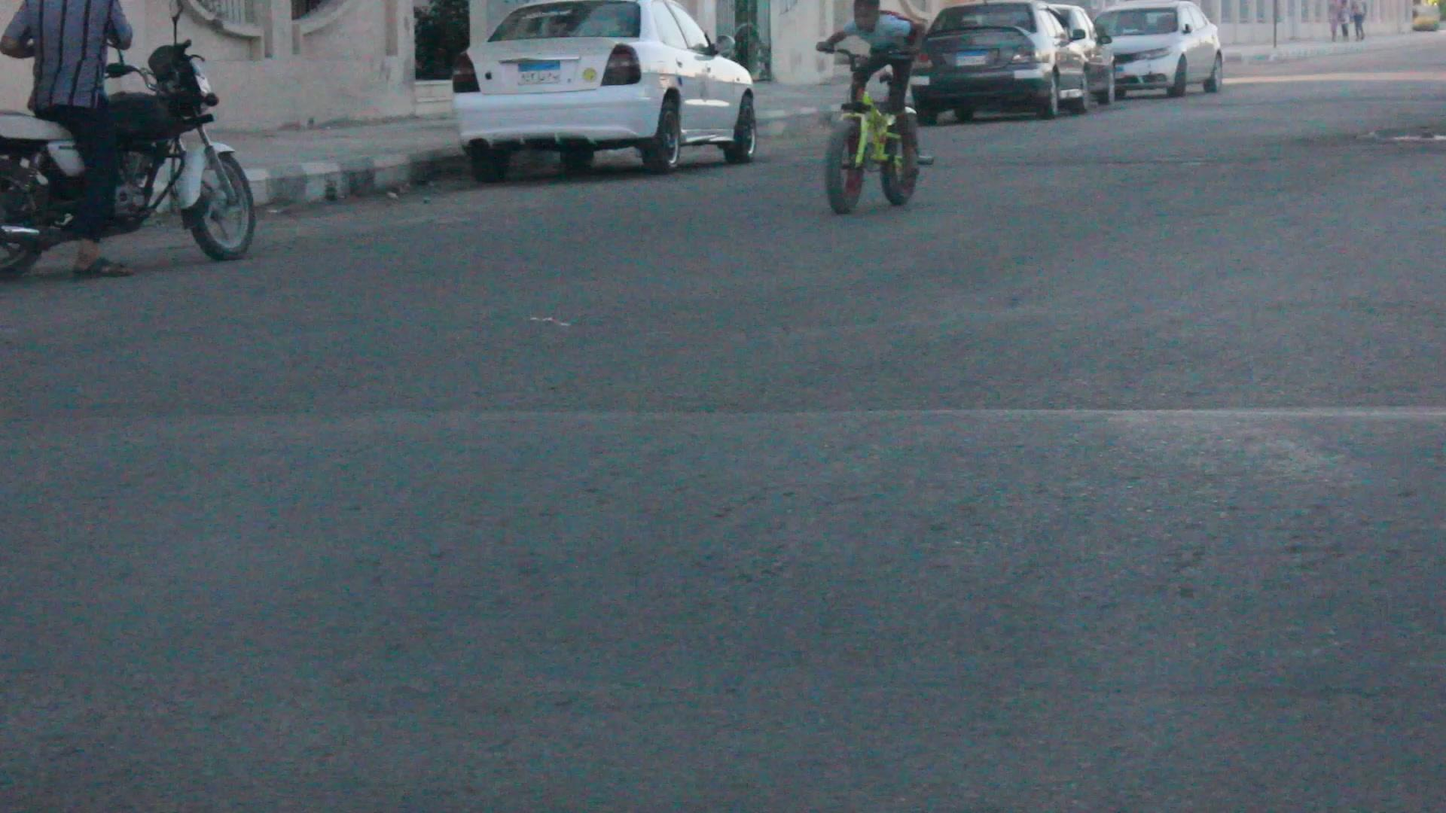Bump: (0, 391, 1446, 789)
